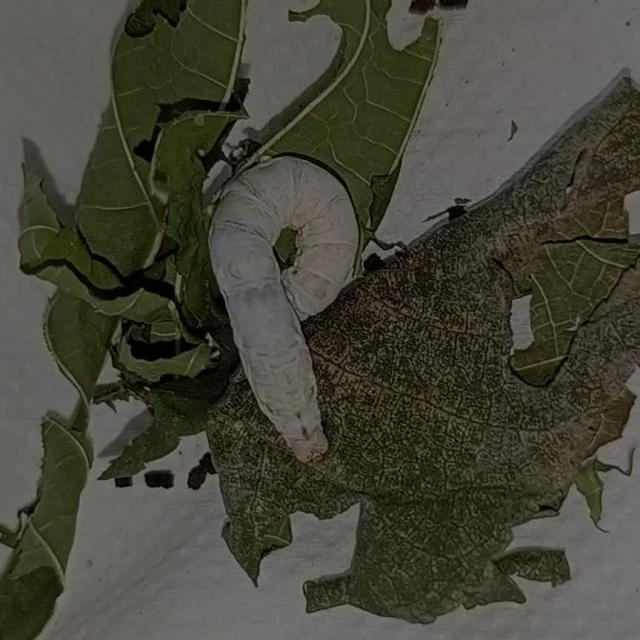Healthy: (196, 143, 374, 469)
